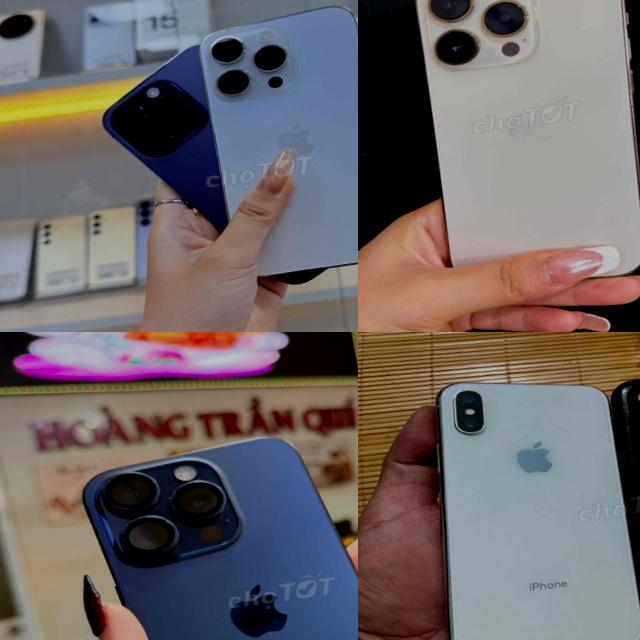gen_14: (398, 0, 640, 330), (194, 0, 358, 292)
gen_15: (52, 416, 358, 640)
gen_x_xs: (437, 383, 640, 640)
